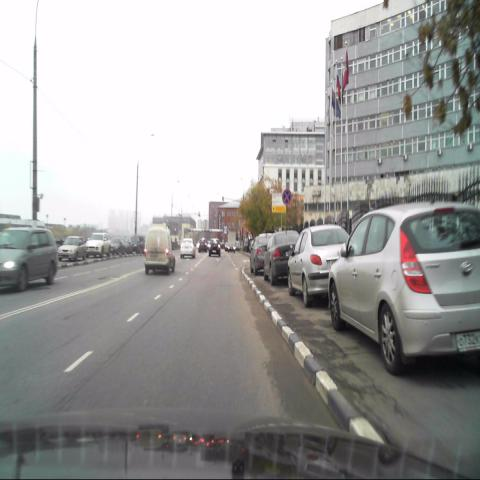3_27: (282, 188, 292, 206)
